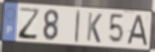5: (108, 13, 124, 45)
8: (43, 9, 60, 42)
A: (125, 15, 150, 47)
I: (74, 10, 82, 45)
K: (85, 11, 103, 44)
Z: (18, 6, 41, 41)
